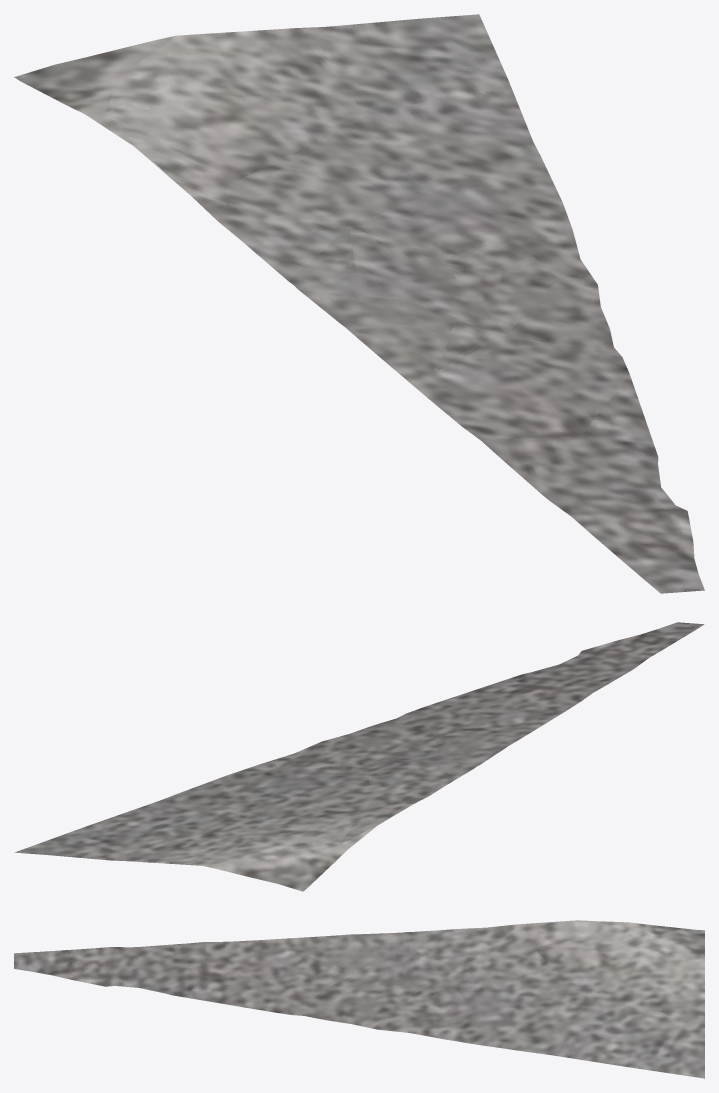
3 views of the same model, one above another, from view 1: azimuth 30°, elevation 25°; view 2: azimuth 150°, elevation 25°; view 3: azimuth 270°, elevation 25° (orthographic). The views are drawn at different scales.
Size of the model in its own units: 0.3478 by 0.0495 by 0.8373.
Materials: 1 (1 with a texture image).
